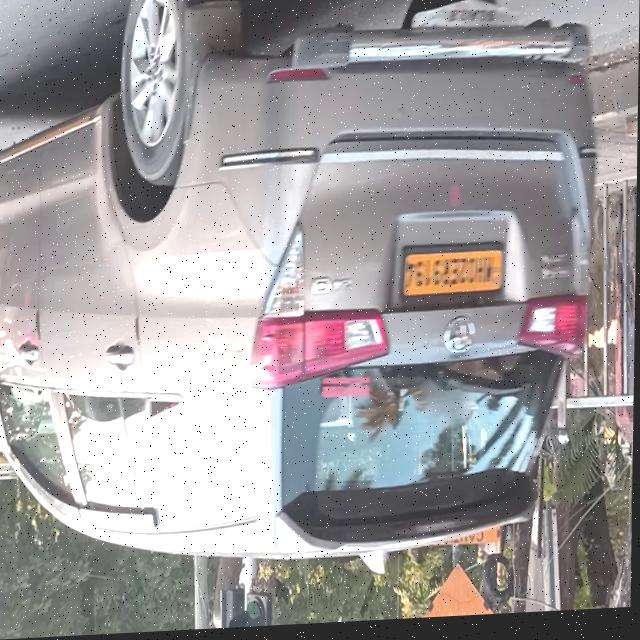plate: (399, 246, 507, 310)
